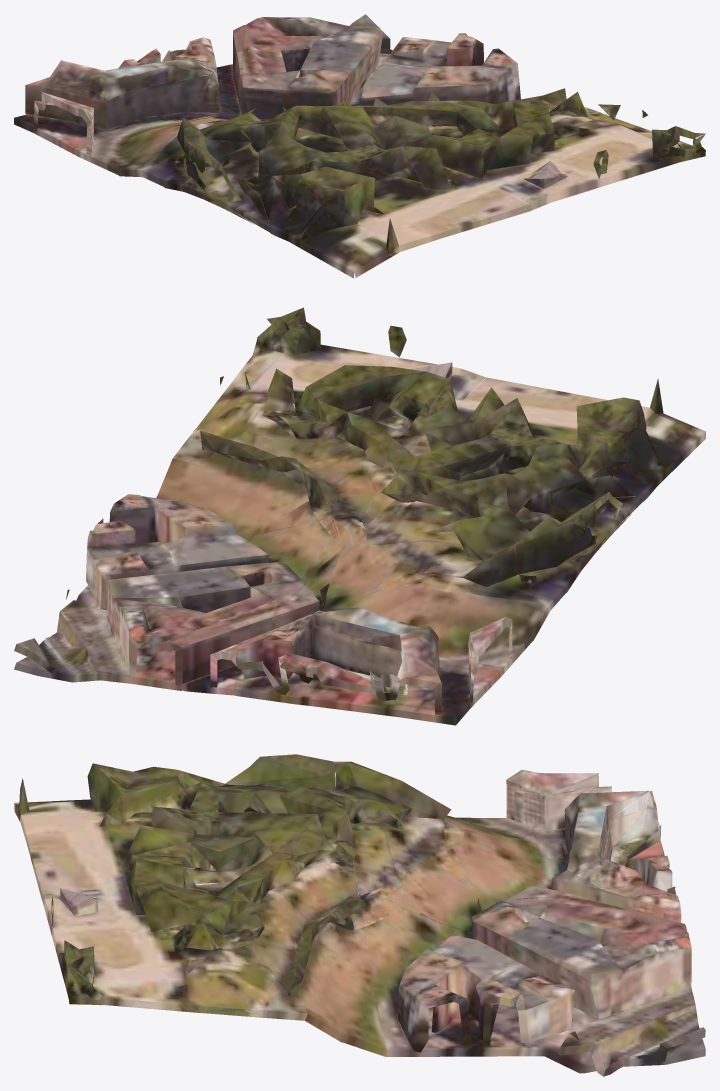
3 views of the same model, one above another, from view 1: azimuth 30°, elevation 25°; view 2: azimuth 150°, elevation 25°; view 3: azimuth 270°, elevation 25° (orthographic). The views are drawn at different scales.
Visible parts, largest first — view 1: Mesh_0; view 2: Mesh_0; view 3: Mesh_0.
Part boxes in pixels (box(x1,y1,x2,y2)): Mesh_0: box(14, 14, 705, 278); Mesh_0: box(14, 307, 705, 725); Mesh_0: box(14, 754, 705, 1076).
Size of the model in its own units: 266 by 78.66 by 329.
2 materials, 2 textured.
